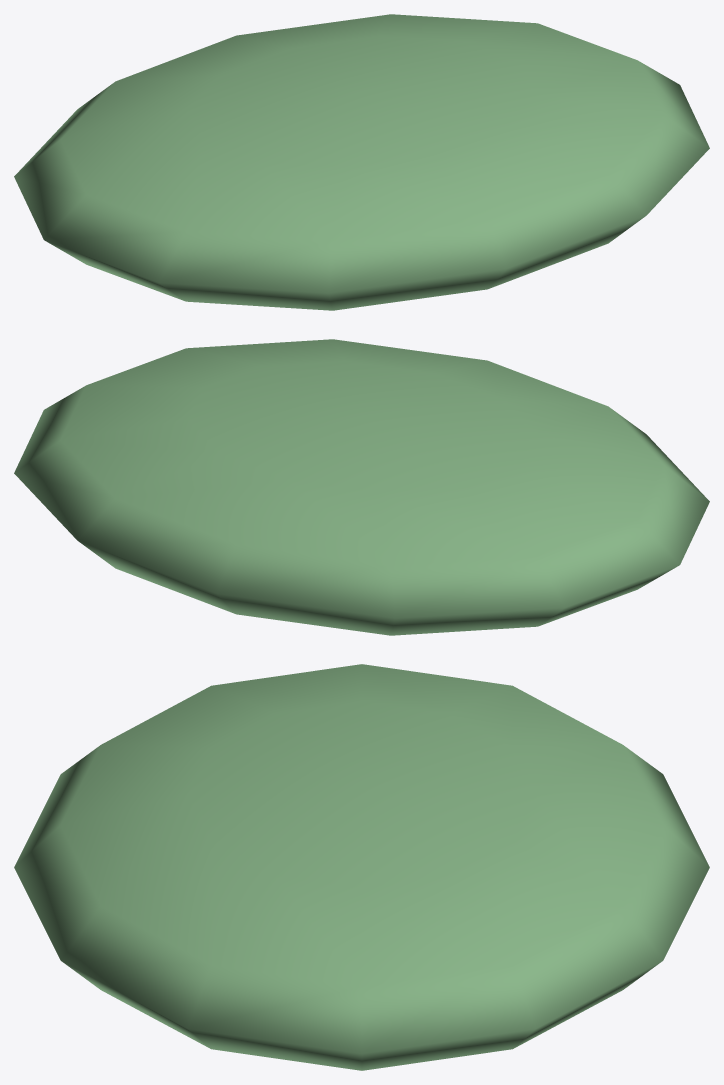
3 views of the same model, one above another, from view 1: azimuth 30°, elevation 25°; view 2: azimuth 150°, elevation 25°; view 3: azimuth 270°, elevation 25° (orthographic). The views are drawn at different scales.
Parts seen in each view (by area): view 1: Low terrain; view 2: Low terrain; view 3: Low terrain.
Boxes of the visible parts, bbox=[...] form: Low terrain: bbox=[14, 14, 709, 310]; Low terrain: bbox=[14, 339, 709, 635]; Low terrain: bbox=[14, 664, 709, 1070].
Size of the model in its own units: 190 by 40 by 150.
